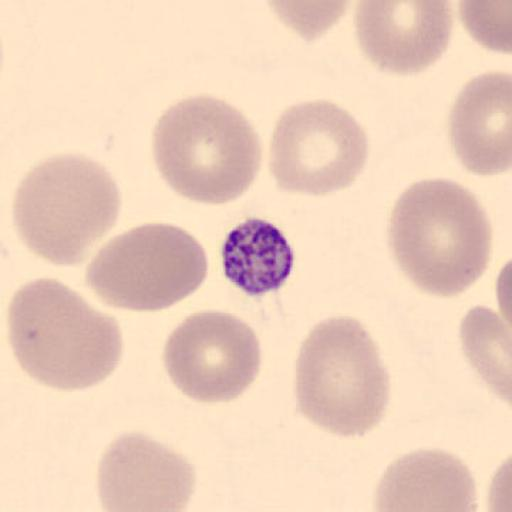Platelet: (218, 215, 298, 298)
RBC: (6, 275, 124, 394), (385, 175, 493, 299), (11, 150, 123, 269), (149, 91, 263, 207), (292, 312, 392, 440), (84, 221, 210, 314), (268, 97, 371, 199), (161, 308, 264, 406), (95, 430, 198, 512), (352, 1, 454, 77), (371, 444, 479, 512), (448, 68, 512, 178), (458, 303, 512, 406), (258, 0, 356, 42), (455, 0, 512, 55), (488, 432, 512, 512), (485, 451, 512, 512), (495, 256, 512, 346)
